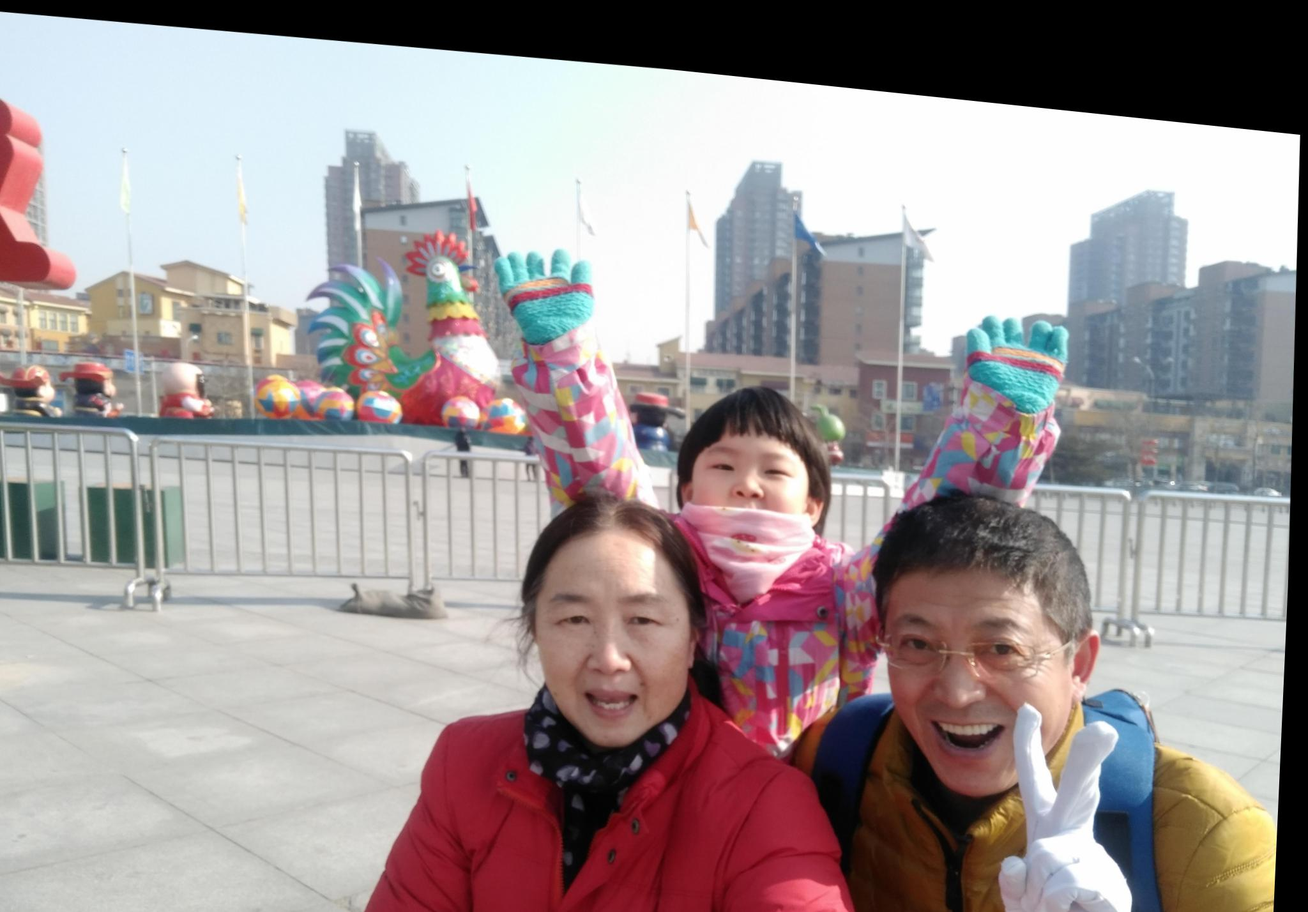NONE: (882, 578, 1079, 778), (537, 561, 694, 729)
WRONG: (685, 419, 815, 554)
